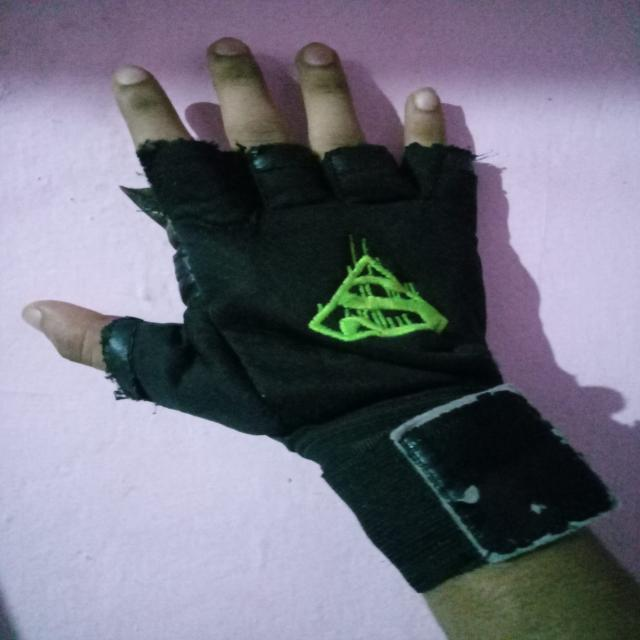glove_hand: (92, 128, 626, 598)
